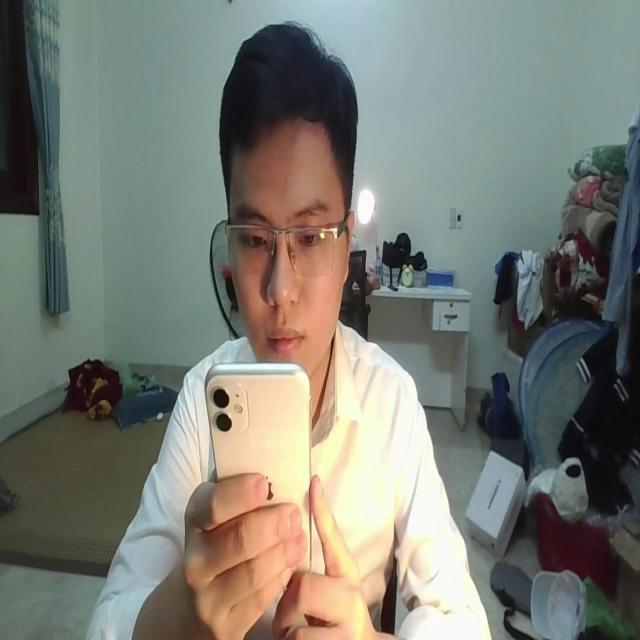phone: (205, 357, 308, 585)
student: (84, 24, 490, 640)
